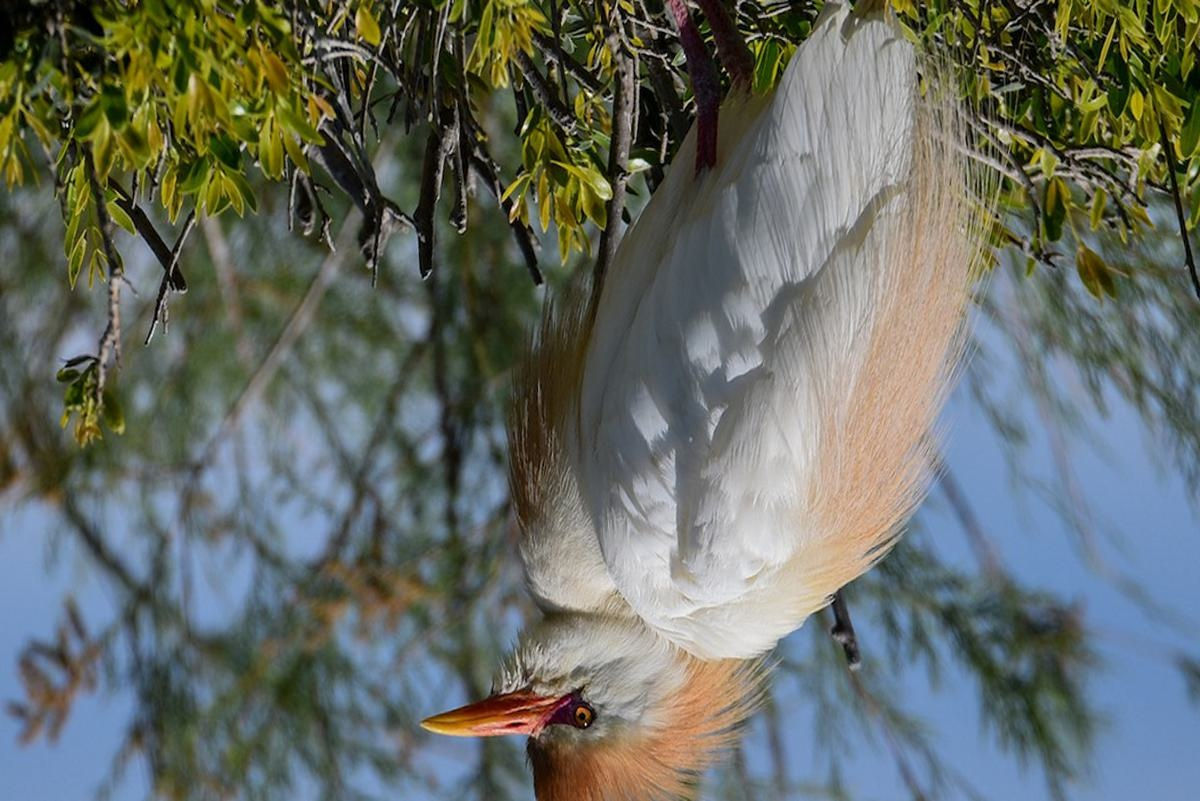egret: (425, 46, 1027, 796)
